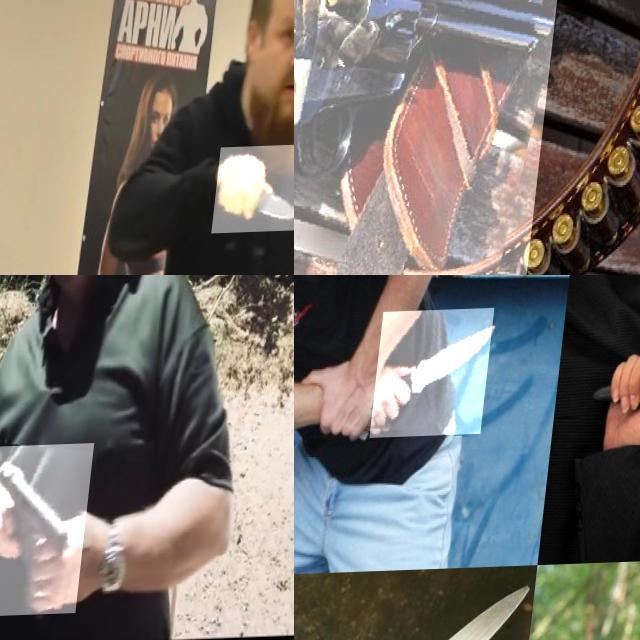-: (374, 310, 496, 439), (310, 582, 537, 640), (220, 148, 294, 236)
gun-knife-thesis - v11 Yolov5 augmented: (294, 0, 570, 275), (0, 445, 104, 619)
